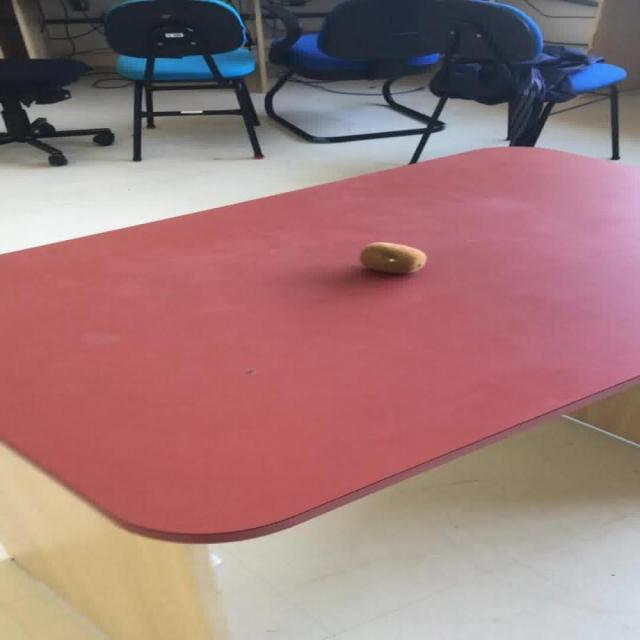Kiwi: (358, 240, 426, 274)
